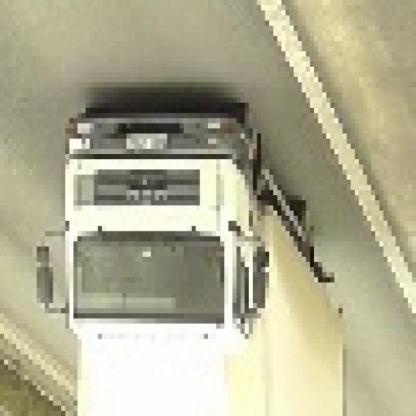truck: (33, 103, 343, 416)
